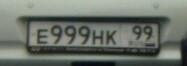license-plateSW: (28, 19, 160, 48)
